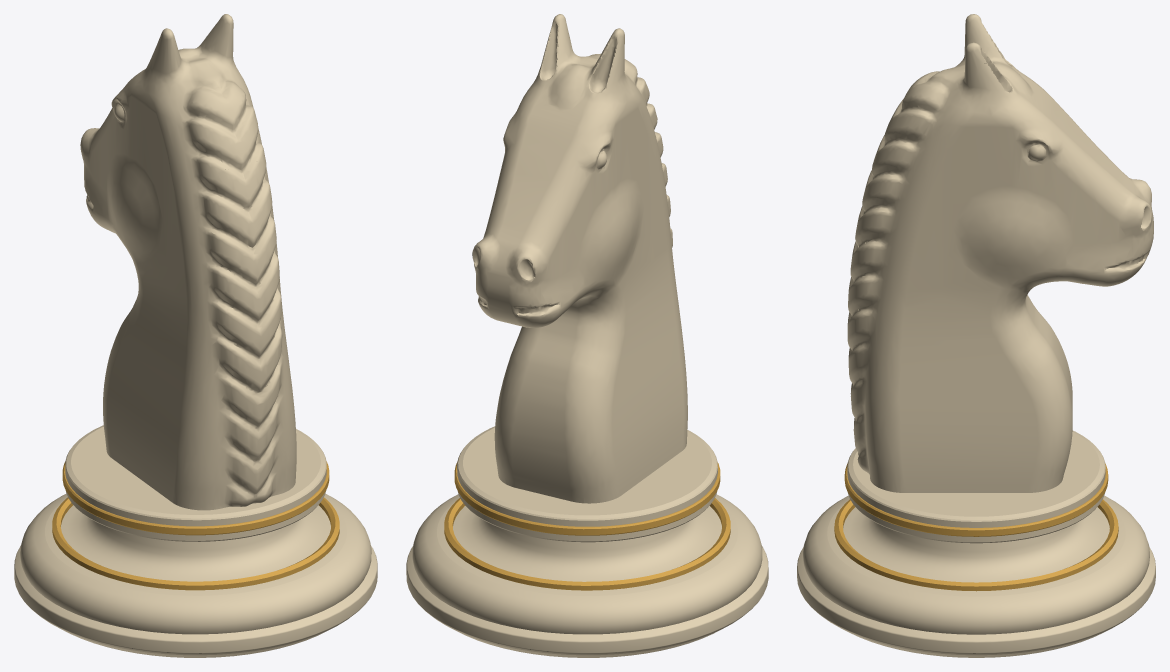
The model's file is knight.obj.
The picture shows the model from 3 angles, left to right: view 1: azimuth 30°, elevation 25°; view 2: azimuth 150°, elevation 25°; view 3: azimuth 270°, elevation 25°; orthographic projection.
Parts seen in each view (by area): view 1: knight; view 2: knight; view 3: knight.
Boxes of the visible parts, bbox=[...] form: knight: bbox=[14, 14, 377, 657]; knight: bbox=[406, 14, 768, 657]; knight: bbox=[797, 14, 1155, 657].
Bounding box in the file's own units: 0.5 × 0.86 × 0.5.
